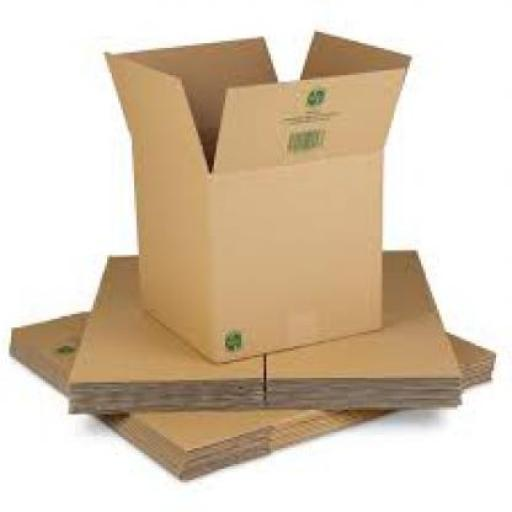cardboard: (107, 30, 414, 366), (9, 310, 496, 480), (68, 246, 465, 416)
